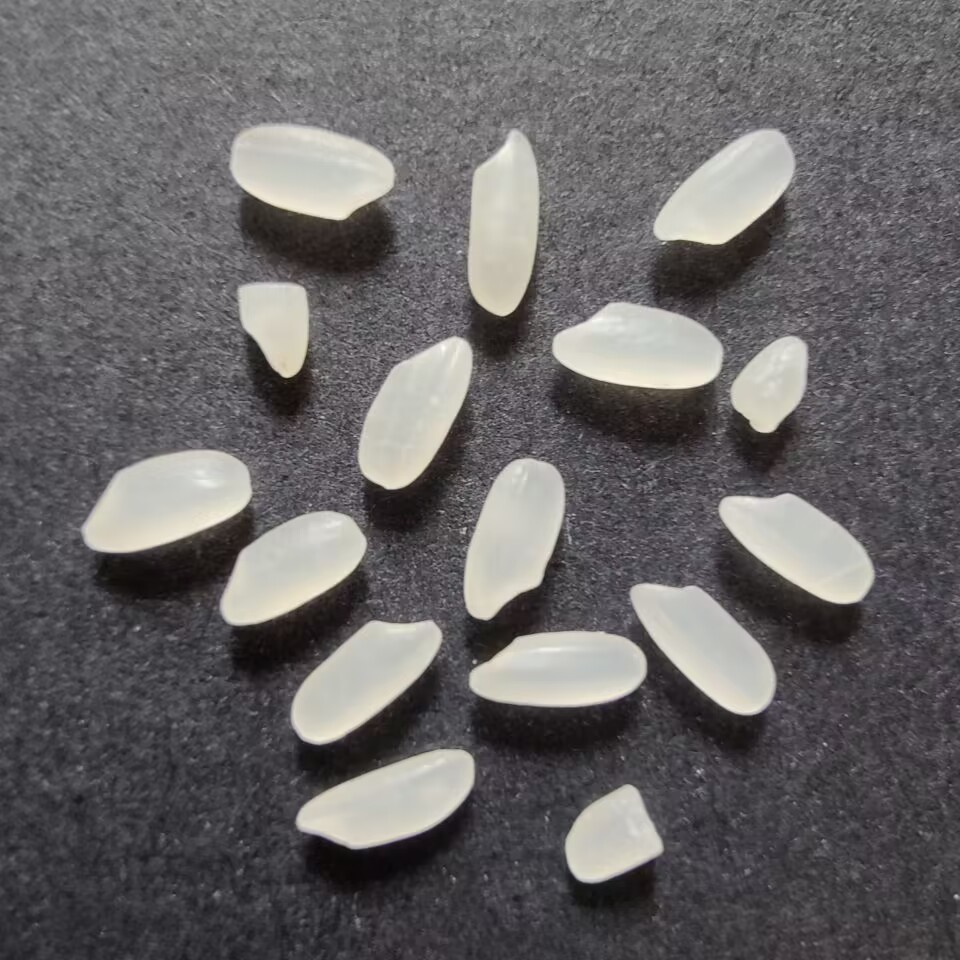broken: (551, 780, 676, 891), (719, 332, 814, 441), (228, 277, 315, 388)
rice: (285, 611, 448, 749), (289, 742, 481, 859), (625, 576, 780, 720), (72, 442, 256, 563), (713, 486, 879, 608), (355, 331, 477, 496), (644, 120, 801, 248), (221, 116, 405, 224), (211, 509, 371, 633), (459, 454, 569, 624), (458, 122, 547, 318), (545, 297, 728, 391), (460, 623, 650, 709)
